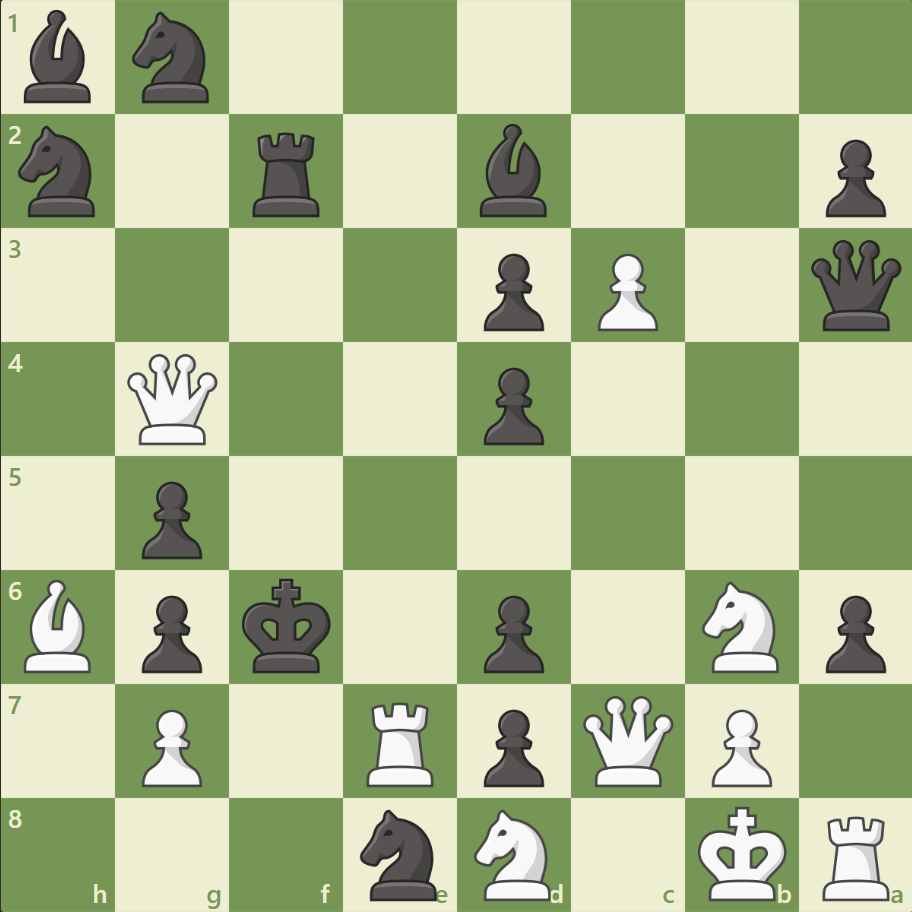B: (17, 574, 101, 676)
K: (692, 798, 792, 906)
N: (465, 802, 562, 904), (692, 575, 789, 677)
P: (701, 700, 776, 791), (133, 700, 208, 791), (588, 246, 662, 337)
Q: (124, 349, 223, 449), (578, 690, 677, 789)
R: (814, 806, 897, 904), (360, 693, 442, 790)
b: (17, 6, 101, 109), (471, 120, 555, 222)
k: (238, 571, 338, 679)
n: (124, 7, 222, 110), (351, 802, 449, 904), (11, 121, 108, 223)
p: (474, 700, 549, 791), (474, 586, 549, 677), (133, 586, 208, 677), (133, 473, 208, 564), (474, 359, 549, 450), (474, 246, 549, 337), (815, 586, 889, 677), (815, 132, 889, 223)
q: (805, 236, 904, 335)
r: (246, 125, 329, 222)
